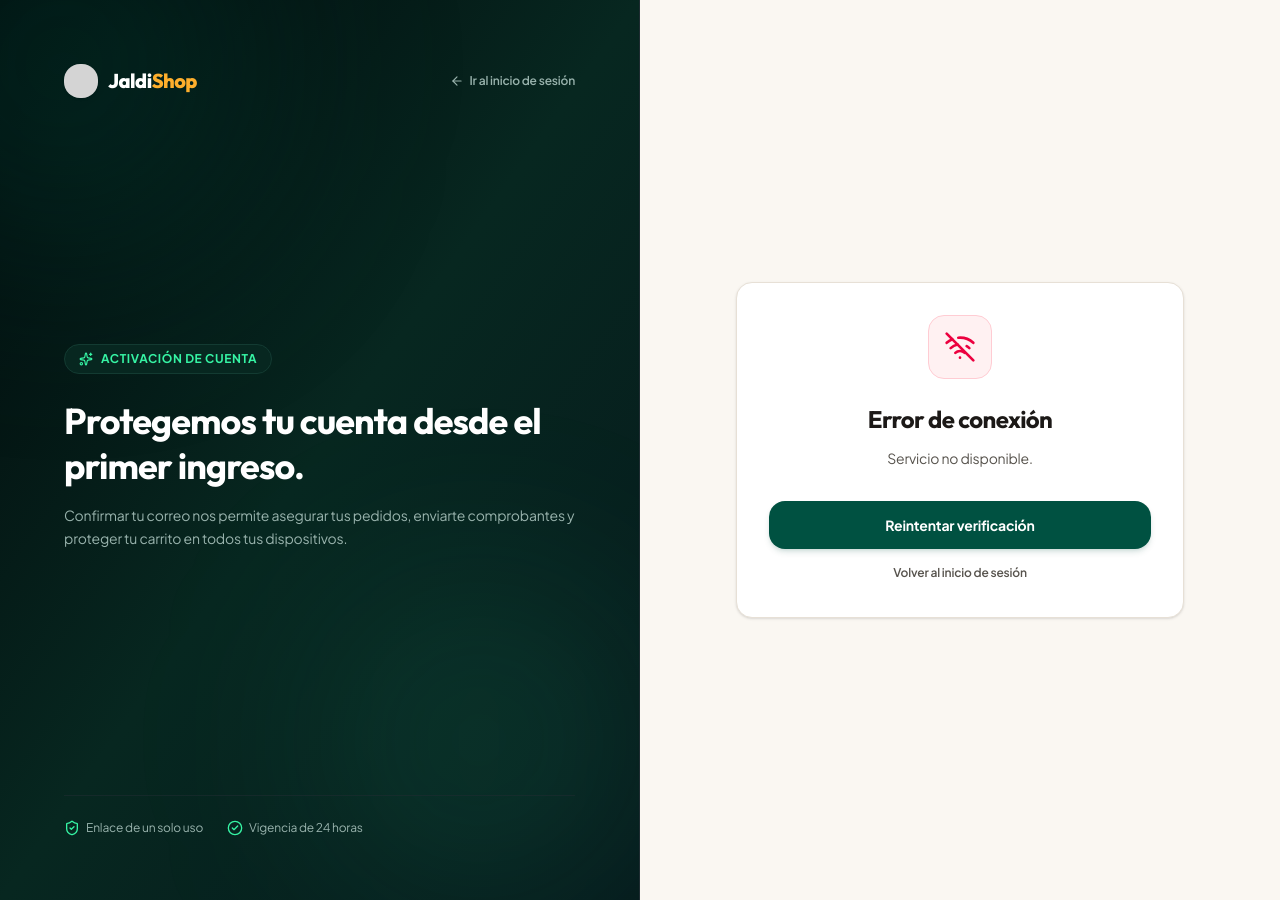
Scenario: VerifyEmailView Component › shows network_error state with retry when backend is unavailable
Expected: the element with test id "verify-email-network-error" is shown, [769,315,1151,585]
Click the button "Reintentar verificación" at [960, 525], box [769,501,1151,549]
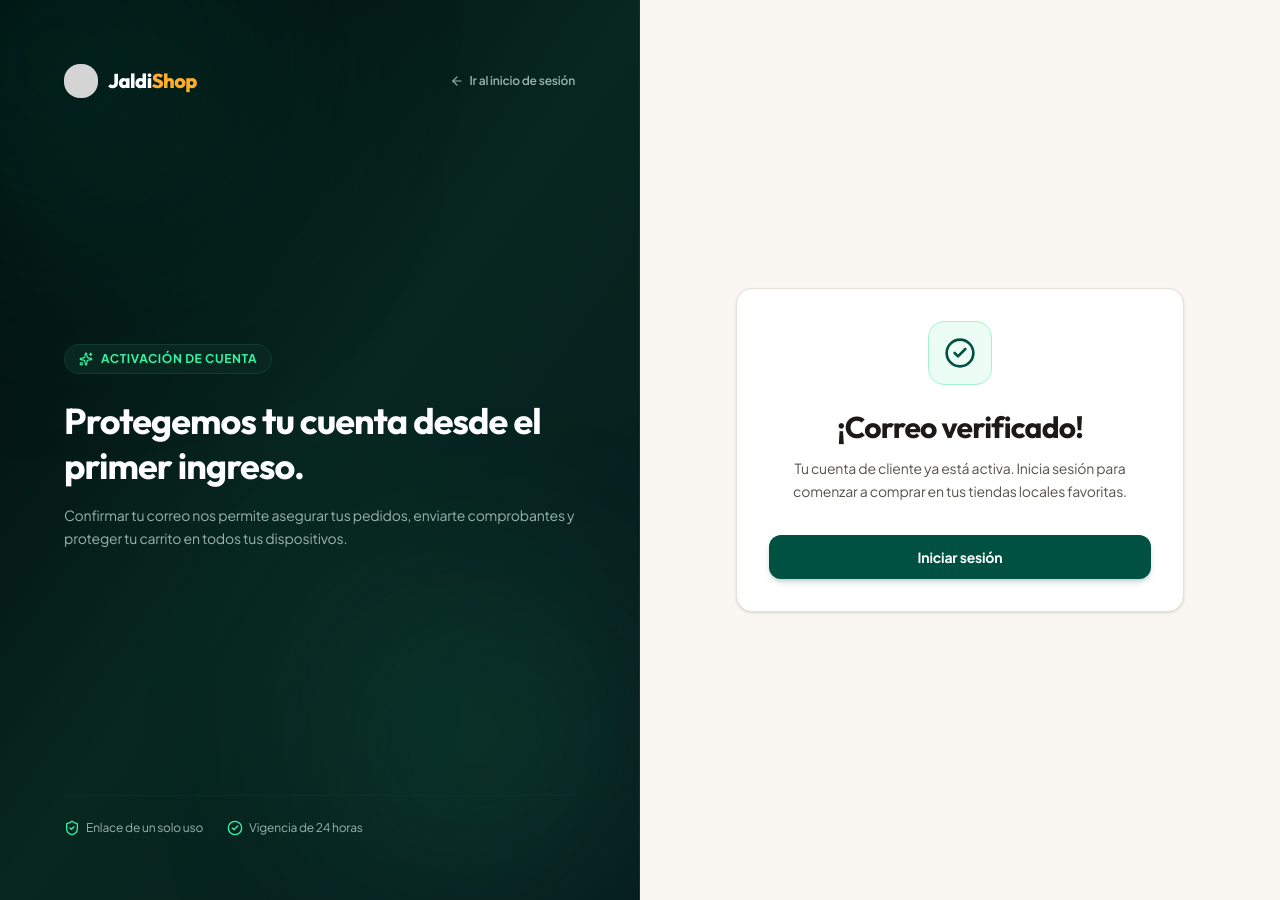
Now the element with test id "verify-email-success" is shown, box [769,321,1151,579]
